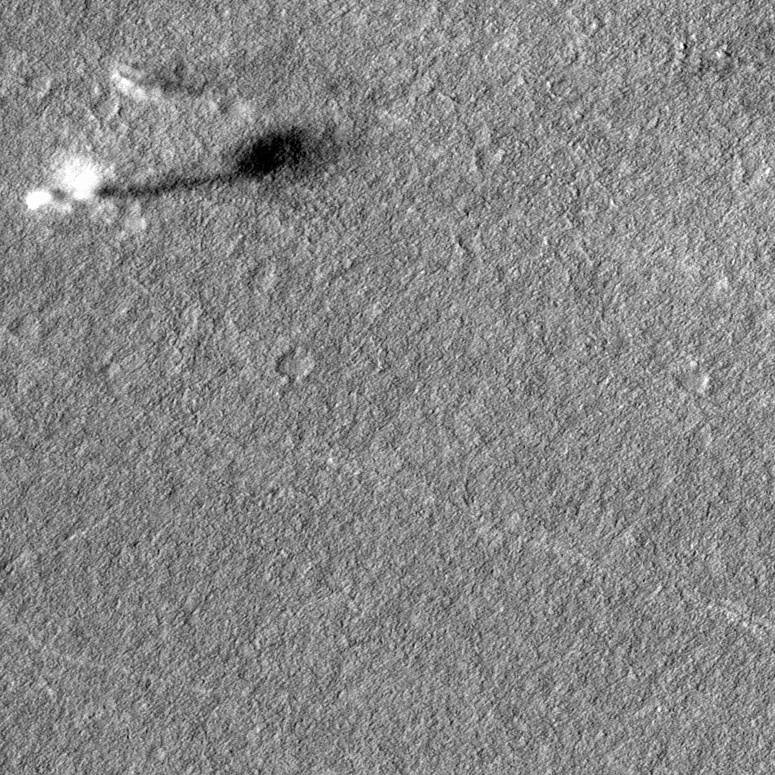dust_devil: (21, 123, 338, 218), (109, 45, 302, 113)
